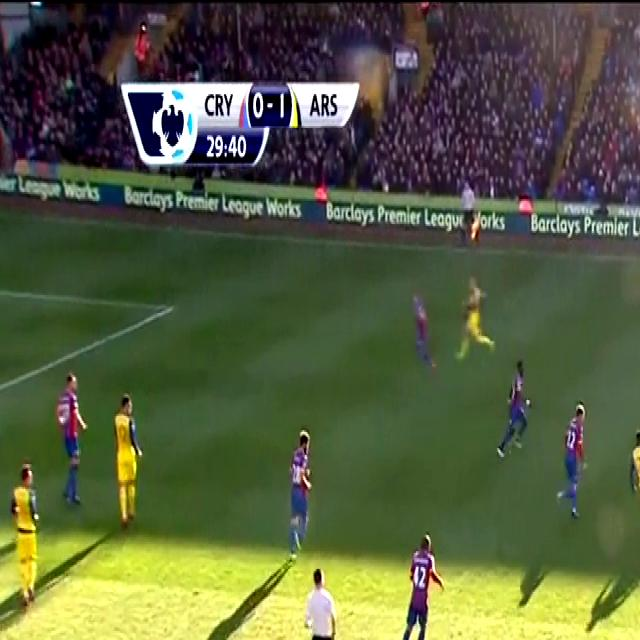referee: (294, 570, 346, 640)
soccer-player: (45, 367, 97, 516), (0, 462, 50, 615), (109, 389, 156, 531), (276, 426, 324, 559), (394, 531, 450, 640), (550, 398, 598, 524), (495, 362, 544, 467), (451, 273, 497, 368), (622, 427, 640, 544)
